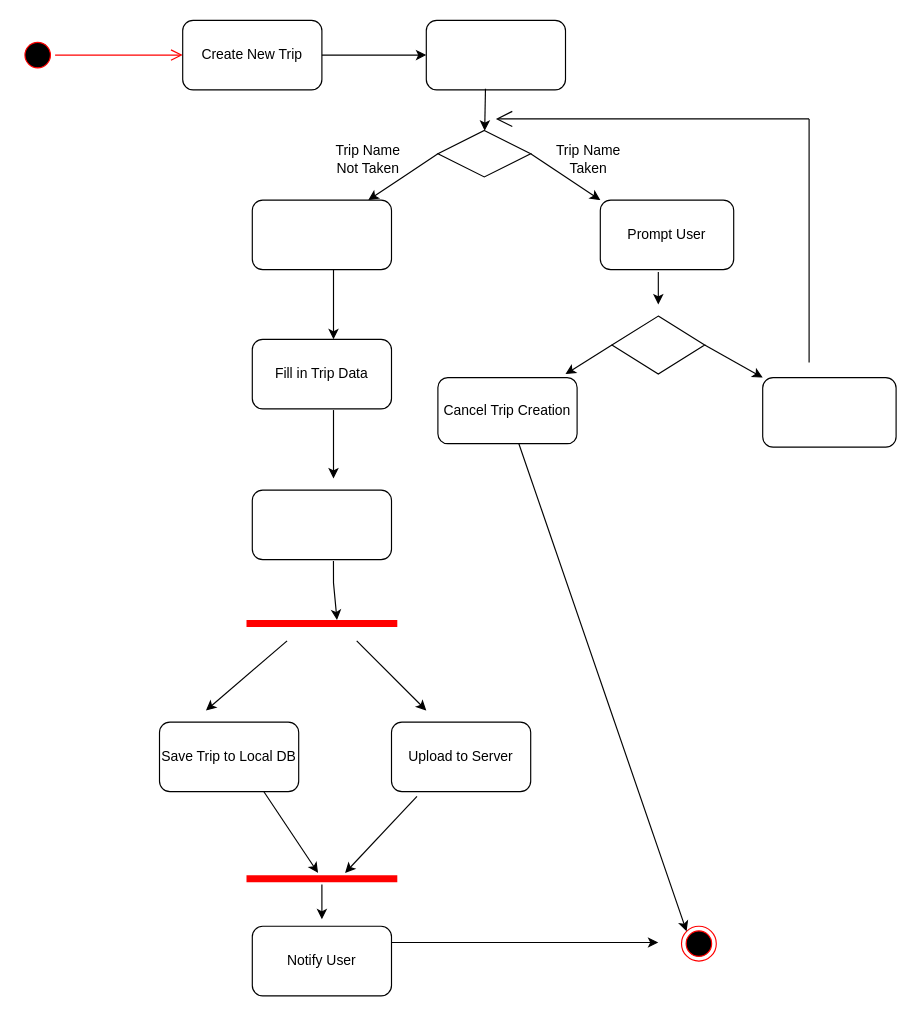
Some shapes in this 916 by 1016 pixel diagram are drawn without their labels. Each missing label, with the centre of its shape:
"Enter New Name" belongs at point 829,411.
"Show New Trip Dialog" belongs at point 321,234.
"Type Name" belongs at point 495,54.
"User Pressed Save" belongs at point 321,524.
